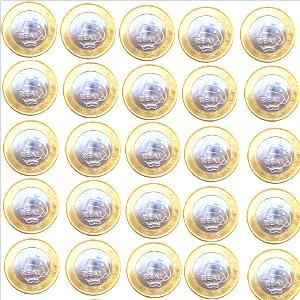1 real: (123, 239, 184, 299), (62, 119, 122, 179), (64, 237, 122, 296), (239, 188, 296, 248), (242, 66, 299, 125), (60, 62, 119, 118), (0, 240, 60, 295), (63, 180, 123, 235), (175, 3, 235, 58), (242, 5, 299, 62), (118, 64, 178, 118), (179, 62, 232, 123), (245, 128, 299, 187), (120, 1, 173, 61), (182, 126, 240, 180), (185, 244, 241, 299), (123, 123, 180, 177), (124, 180, 179, 235), (57, 2, 112, 57), (3, 121, 57, 177), (1, 2, 55, 57), (185, 185, 237, 242), (4, 180, 57, 235), (4, 60, 57, 114), (245, 248, 299, 298)
